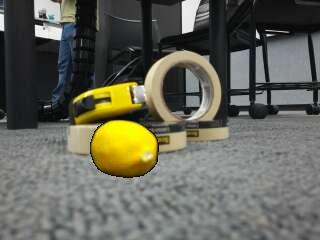lemon: (92, 122, 158, 178)
